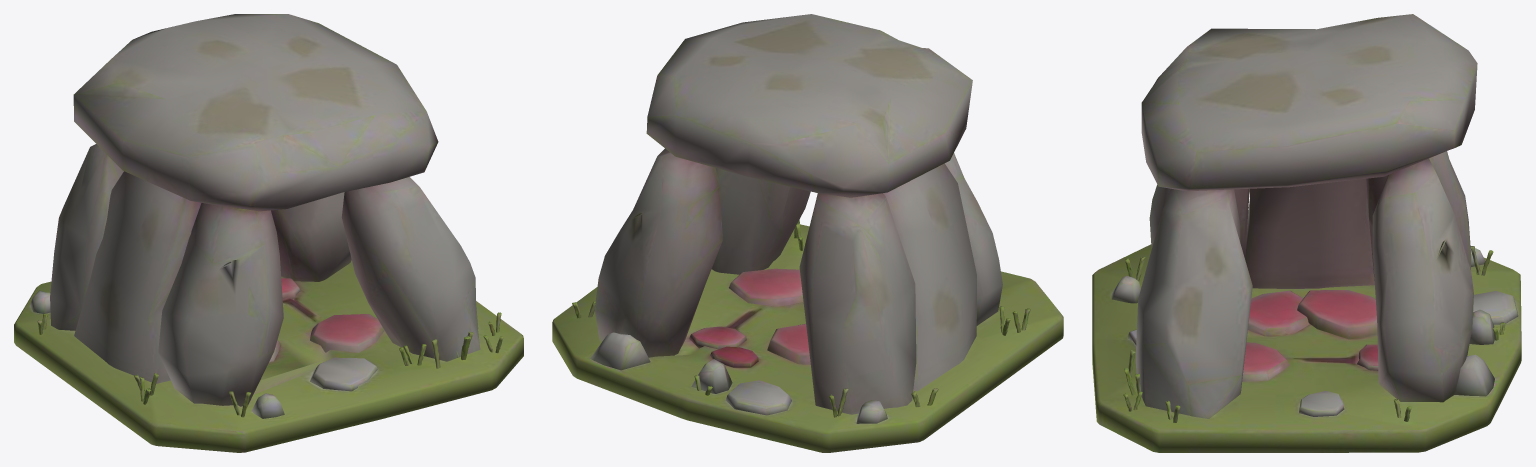
File: dolmen.glb
3 renders of one model, left to right at view 1: azimuth 30°, elevation 25°; view 2: azimuth 150°, elevation 25°; view 3: azimuth 270°, elevation 25°, orthographic. The views are drawn at different scales.
Visible parts, largest first — view 1: tripo_node_c3647b94-7e26-43fb-b650-2218d4f98c5a; view 2: tripo_node_c3647b94-7e26-43fb-b650-2218d4f98c5a; view 3: tripo_node_c3647b94-7e26-43fb-b650-2218d4f98c5a.
Part boxes in pixels (bbox=[...]): tripo_node_c3647b94-7e26-43fb-b650-2218d4f98c5a: bbox=[14, 14, 523, 452]; tripo_node_c3647b94-7e26-43fb-b650-2218d4f98c5a: bbox=[552, 14, 1063, 452]; tripo_node_c3647b94-7e26-43fb-b650-2218d4f98c5a: bbox=[1092, 14, 1521, 452].
Size of the model in its own units: 0.822 by 0.6 by 0.7834.
Materials: 1 (1 with a texture image).
